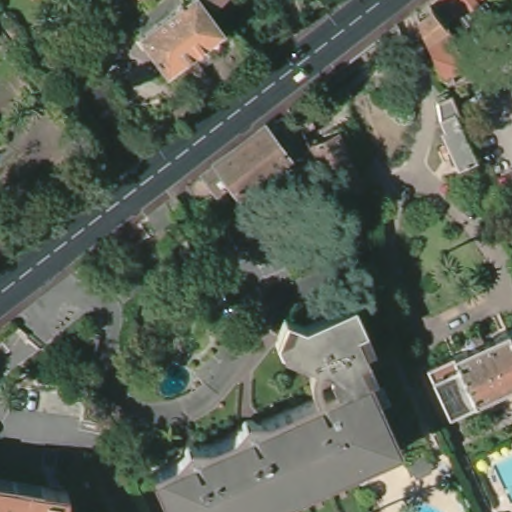pool: (489, 451, 512, 502)
